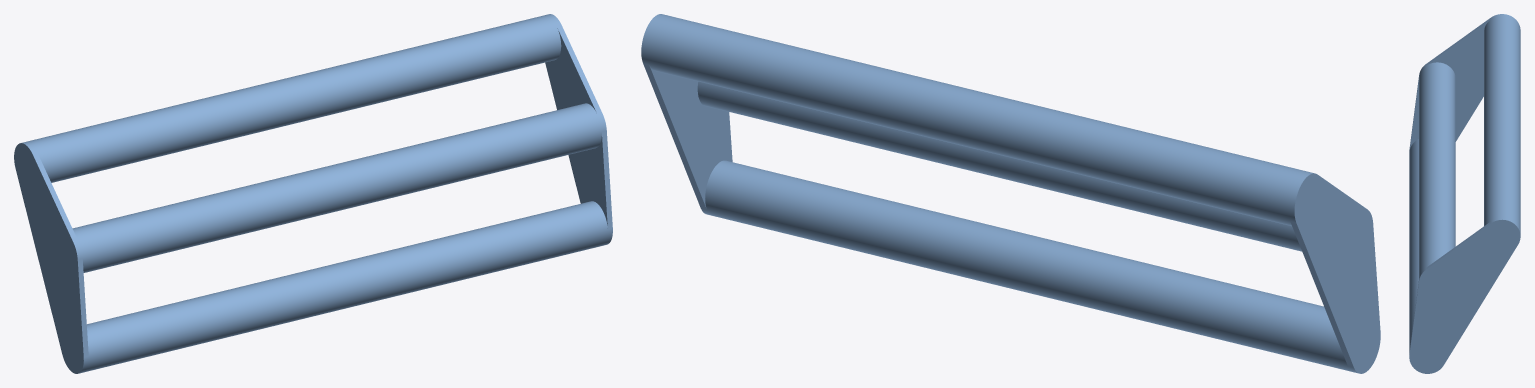
File: 2025Intake_sim.glb
3 views of the same model, side by side, from view 1: azimuth 30°, elevation 25°; view 2: azimuth 150°, elevation 25°; view 3: azimuth 270°, elevation 25° (orthographic). The views are drawn at different scales.
Parts seen in each view (by area): view 1: 4 Bar Intake; view 2: 4 Bar Intake; view 3: 4 Bar Intake.
Part boxes in pixels (x1=…): 4 Bar Intake: x1=14, y1=14, x2=612, y2=373; 4 Bar Intake: x1=641, y1=14, x2=1380, y2=373; 4 Bar Intake: x1=1409, y1=14, x2=1520, y2=373.
Size of the model in its own units: 0.6731 by 0.2351 by 0.1538.
